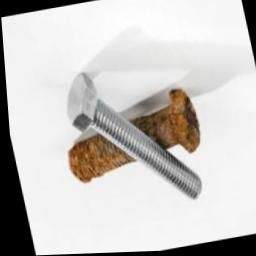Corroded-Bolt: (129, 89, 198, 154), (64, 134, 133, 183)
Non-corroded-Bolts: (63, 72, 199, 200)
